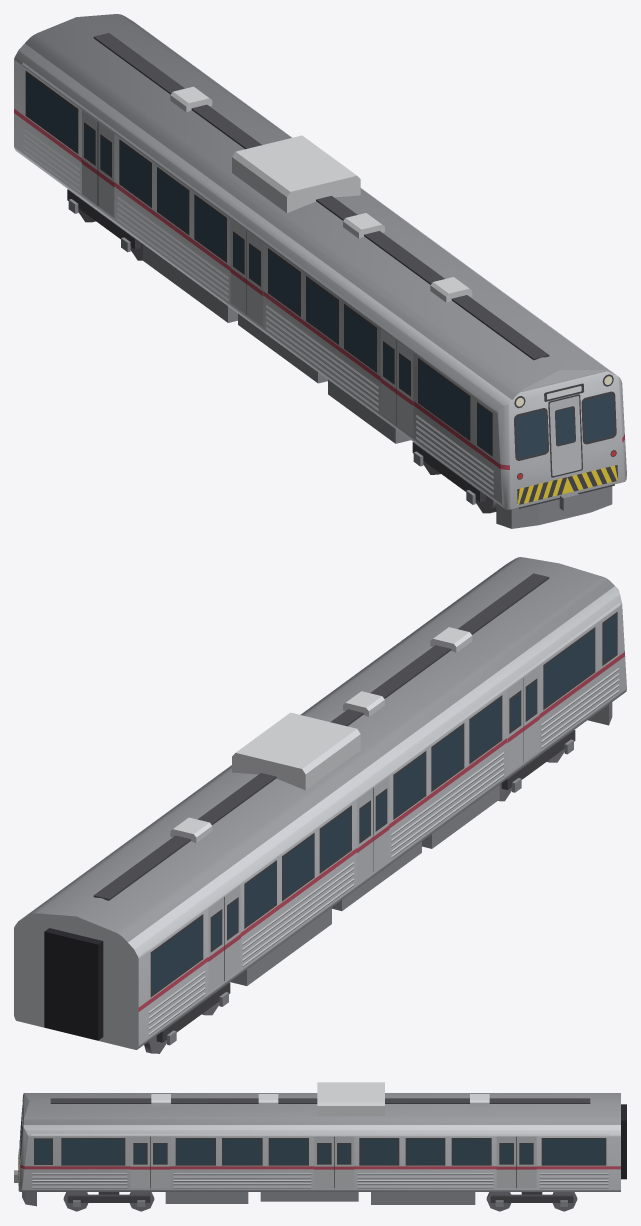
The picture shows the model from 3 angles, top to bottom: view 1: azimuth 30°, elevation 25°; view 2: azimuth 150°, elevation 25°; view 3: azimuth 270°, elevation 25°; orthographic projection. The views are drawn at different scales.
Parts seen in each view (by area): view 1: 388; view 2: 388; view 3: 388.
Part boxes in pixels (left/top/right/bottom): 388: left=14, top=14, right=626, bottom=528; 388: left=14, top=557, right=626, bottom=1053; 388: left=14, top=1082, right=626, bottom=1211.
Bounding box in the file's own units: 2.93 × 3.9 × 20.
